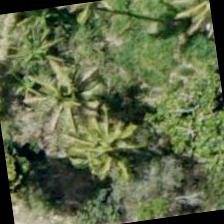Kelapa_Sawit: (60, 102, 162, 204), (14, 50, 116, 152)
